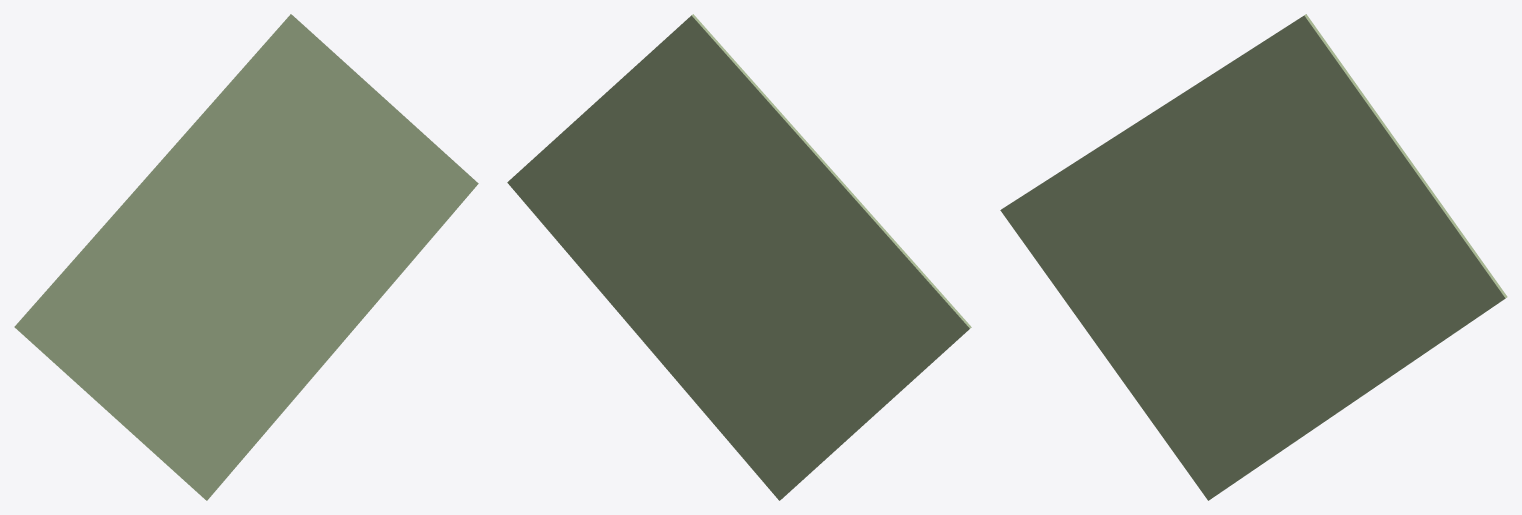
3 renders of one model, left to right at view 1: azimuth 30°, elevation 25°; view 2: azimuth 150°, elevation 25°; view 3: azimuth 330°, elevation 25°, orthographic. The views are drawn at different scales.
Visible parts, largest first — view 1: urn:npust:smart-agriculture-management-platform:face:field-a; view 2: urn:npust:smart-agriculture-management-platform:face:field-a; view 3: urn:npust:smart-agriculture-management-platform:face:field-a.
Boxes of the visible parts, bbox=[...] form: urn:npust:smart-agriculture-management-platform:face:field-a: bbox=[14, 14, 478, 500]; urn:npust:smart-agriculture-management-platform:face:field-a: bbox=[507, 14, 971, 500]; urn:npust:smart-agriculture-management-platform:face:field-a: bbox=[1000, 14, 1507, 500].
Bounding box in the file's own units: 35.05 × 33.62 × 0.393.
